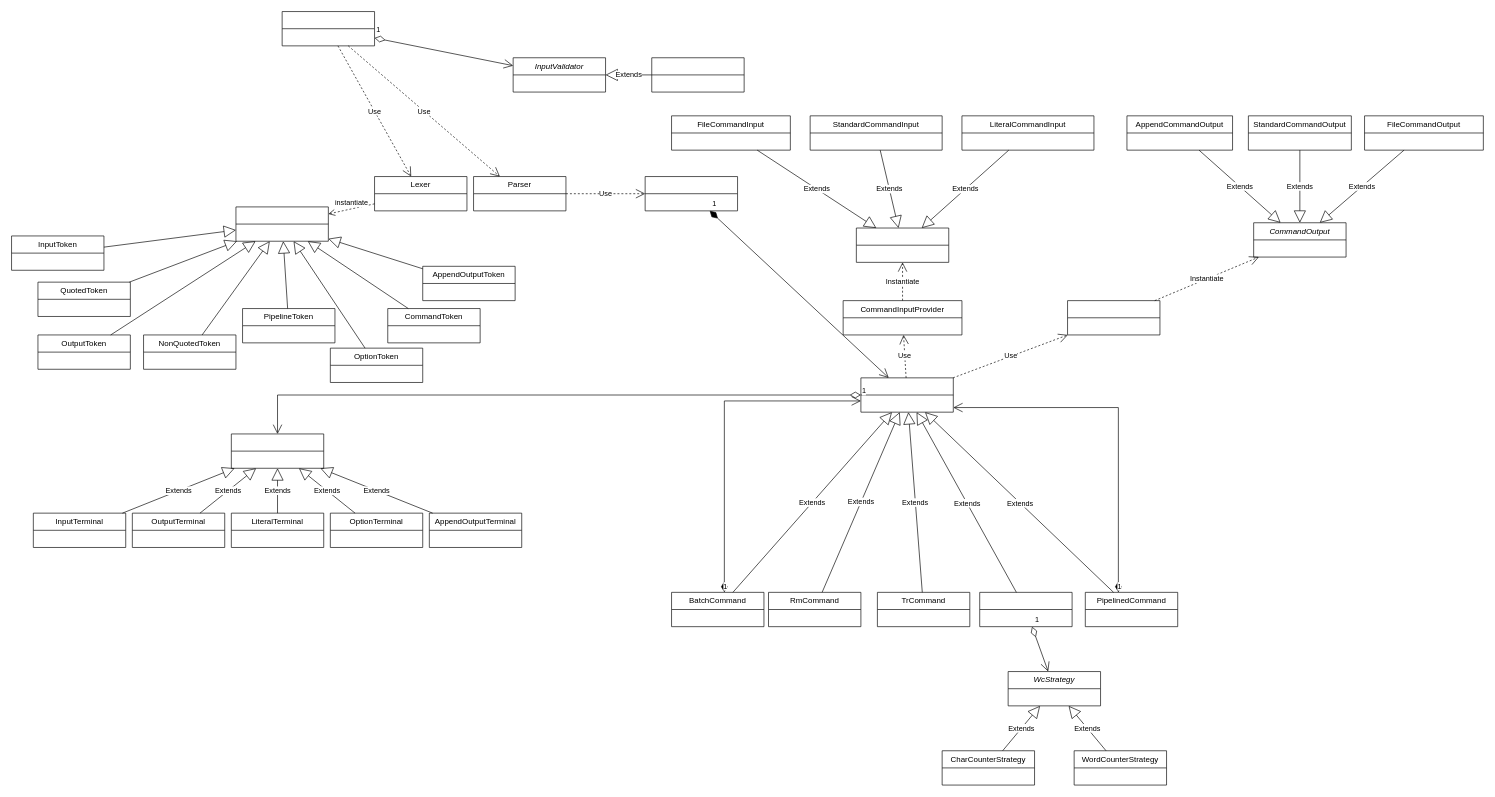
The diagram is 1495 pixels wide and 797 high, and some of its shapes have lost their labels. Here are the shapes that lost their labels. From the top down, the centre of each, then its label:
[328,28]: InputManager
[697,74]: InputLengthValidator
[691,193]: CommandRegistry
[281,223]: Token
[902,244]: CommandInput
[1113,317]: CommandOutputProvider
[906,394]: Command
[277,450]: Terminal
[1025,609]: WcCommand
